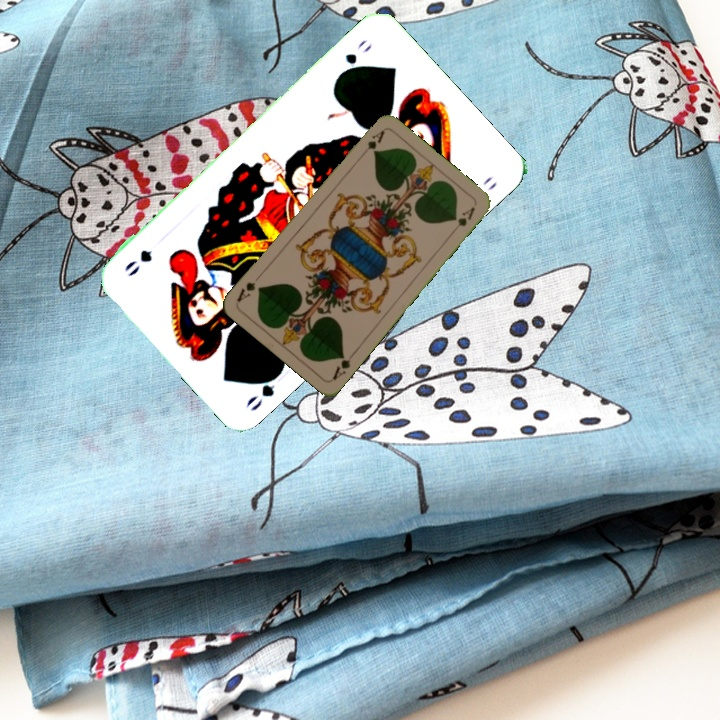GA: (328, 348, 358, 383), (363, 126, 387, 152)
GO: (241, 364, 286, 414), (334, 35, 375, 80)
